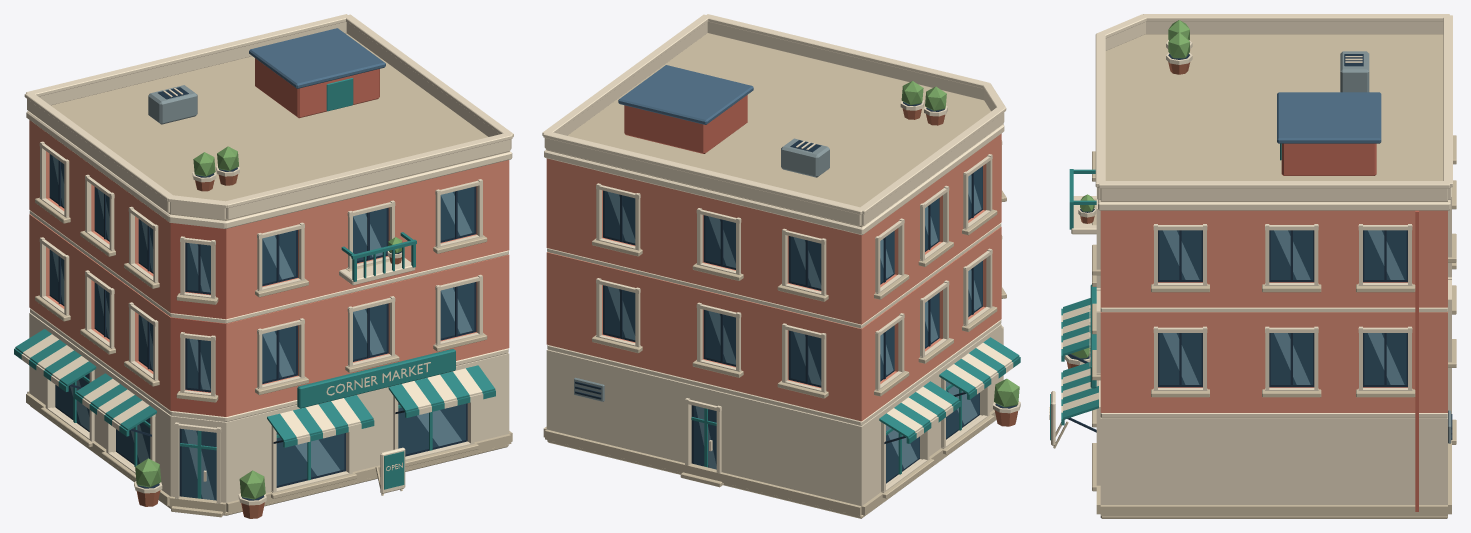
File: corner_market.glb
The picture shows the model from 3 angles, left to right: view 1: azimuth 30°, elevation 25°; view 2: azimuth 150°, elevation 25°; view 3: azimuth 270°, elevation 25°; orthographic projection. The views are drawn at different scales.
Visible parts, largest first — view 1: CornerMarket_StaticMesh; view 2: CornerMarket_StaticMesh; view 3: CornerMarket_StaticMesh.
Part boxes in pixels (<box>): CornerMarket_StaticMesh: <box>14,14,513,518</box>; CornerMarket_StaticMesh: <box>542,14,1020,518</box>; CornerMarket_StaticMesh: <box>1049,14,1456,518</box>.
Size of the model in its own units: 12.11 by 10.85 by 11.14.
